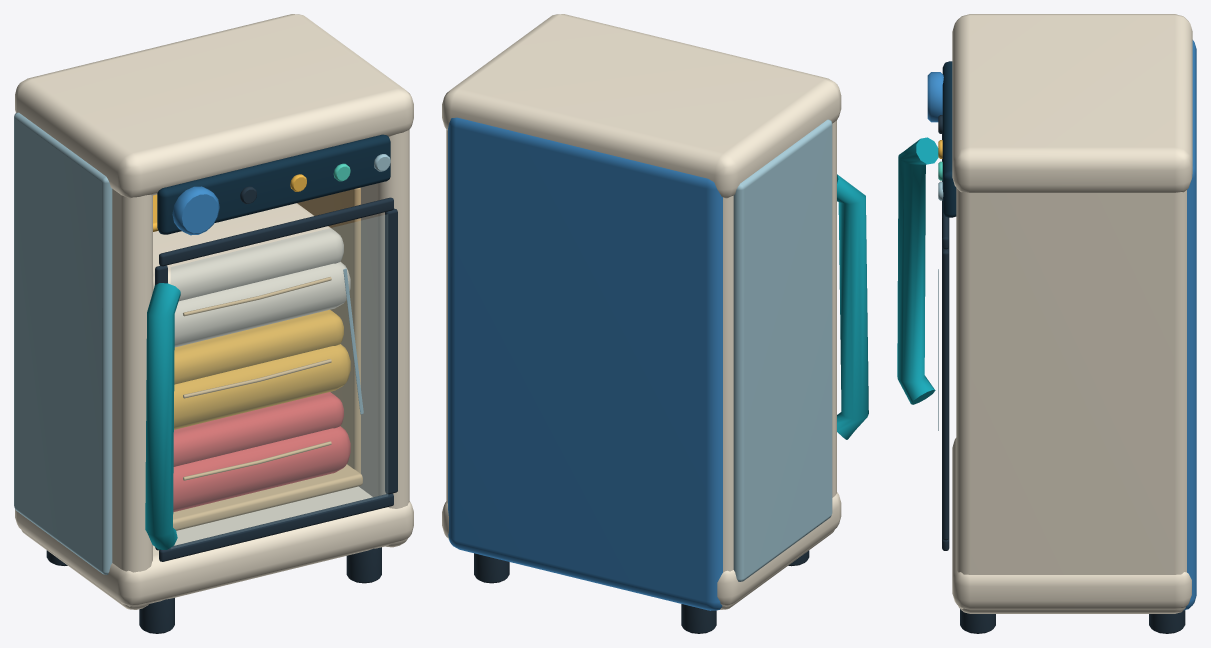
Rendered from medical-14.glb.
3 views of the same model, side by side, from view 1: azimuth 30°, elevation 25°; view 2: azimuth 150°, elevation 25°; view 3: azimuth 270°, elevation 25° (orthographic). The views are drawn at different scales.
Parts seen in each view (by area): view 1: 14_ThermaNest_Body, 14_ThermaNest_Glass; view 2: 14_ThermaNest_Body; view 3: 14_ThermaNest_Body.
Boxes of the visible parts, x1,y1,x2,y2 form: 14_ThermaNest_Body: [14, 14, 413, 633]; 14_ThermaNest_Glass: [171, 214, 387, 548]; 14_ThermaNest_Body: [442, 14, 868, 633]; 14_ThermaNest_Body: [897, 14, 1196, 633].
Size of the model in its own units: 0.893 by 1.38 by 0.7598.
Materials: 2 (1 with a texture image).
